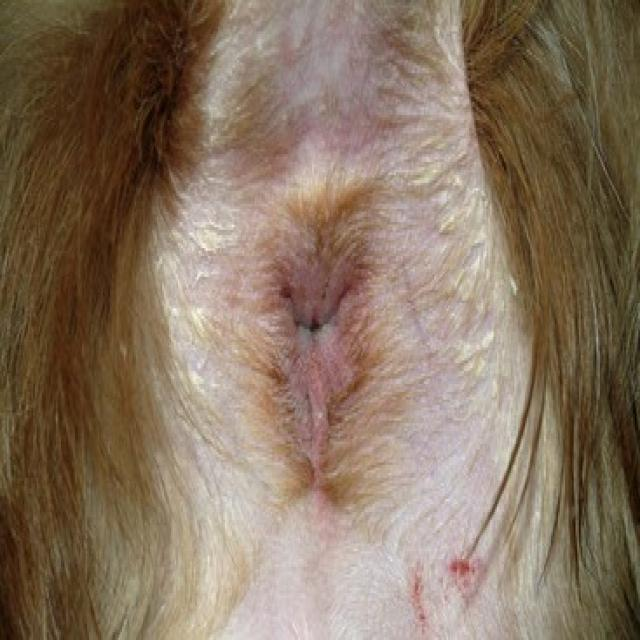allergic dermatitis: (276, 199, 364, 314), (278, 351, 358, 475)
